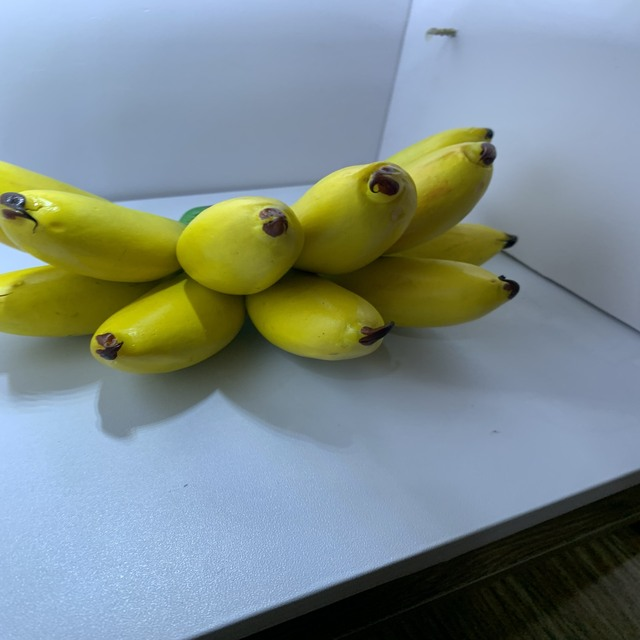Chuoi: (0, 125, 528, 383)
